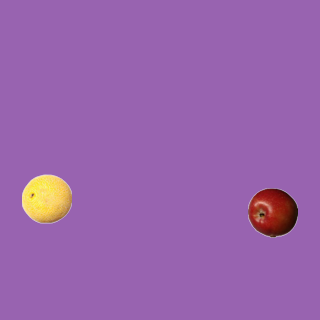Apple Braeburn: (247, 187, 297, 237)
Cantaloupe 1: (21, 173, 71, 223)
